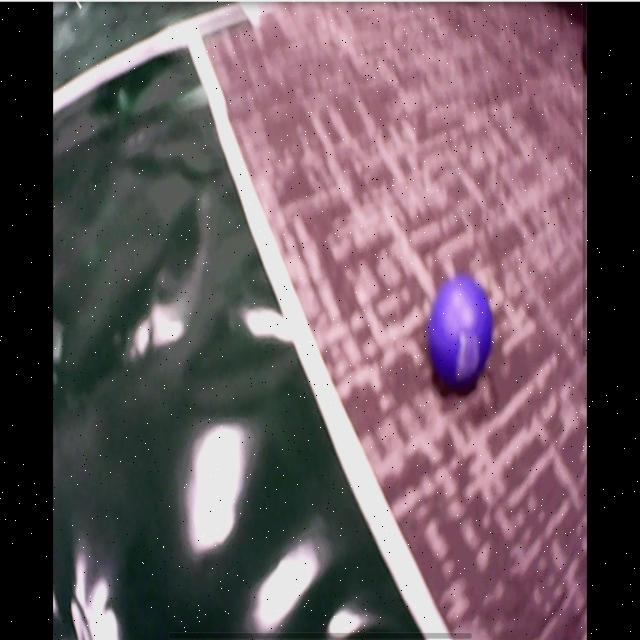ball: (429, 277, 493, 392)
